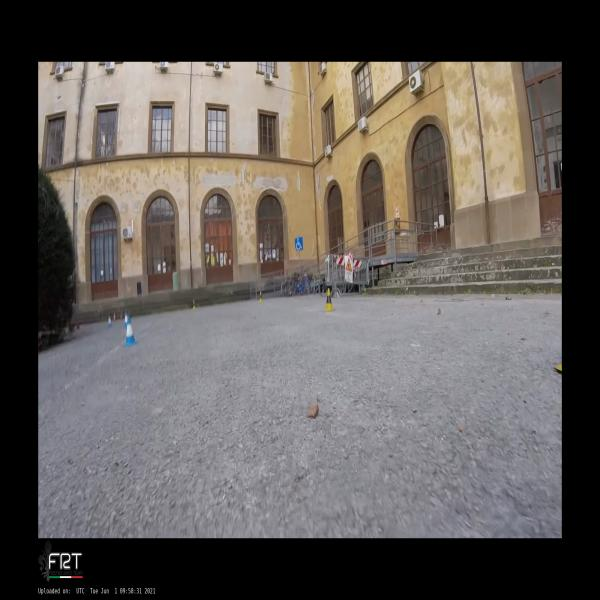blue_cone: (125, 315, 138, 346), (107, 314, 112, 329), (125, 311, 128, 328)
large_orange_cone: (113, 311, 116, 321)
unknown_cone: (120, 311, 123, 320)
yellow_cone: (323, 288, 336, 312), (259, 291, 263, 302), (192, 299, 196, 309)
